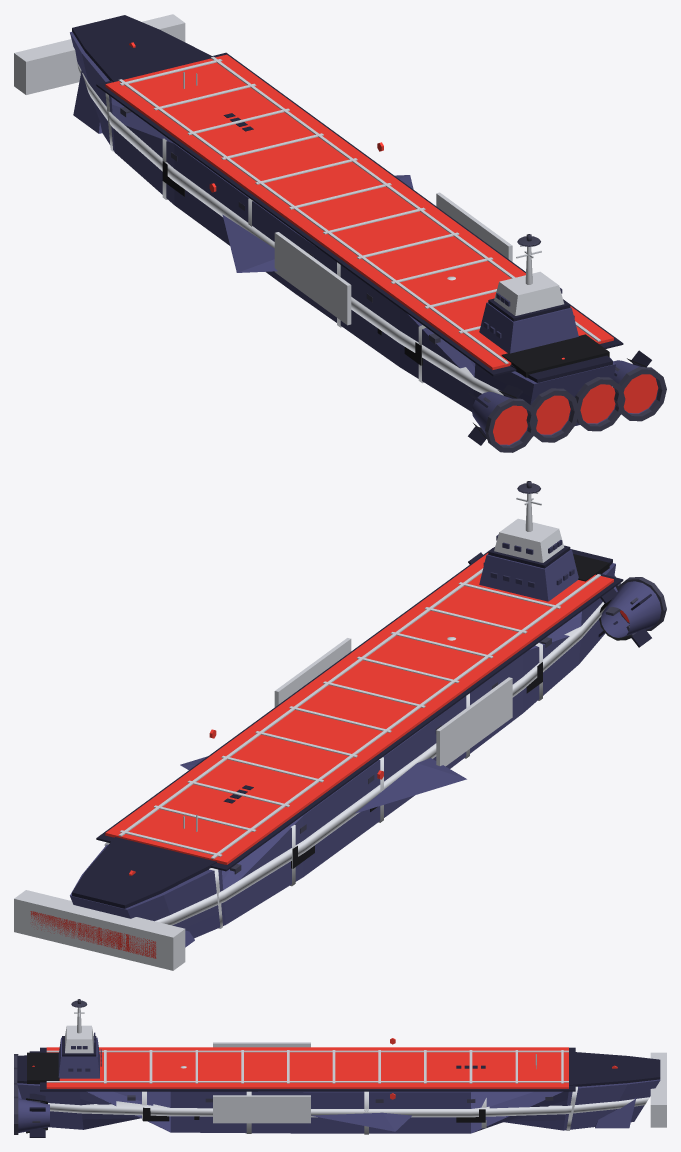
The model's file is bolar_carrier.obj.
The picture shows the model from 3 angles, top to bottom: view 1: azimuth 30°, elevation 25°; view 2: azimuth 150°, elevation 25°; view 3: azimuth 270°, elevation 25°; orthographic projection. The views are drawn at different scales.
Parts seen in each view (by area): view 1: hull, engine_nozzle, radiator, superstructure, wave_motion_gun, bridge, wing; view 2: hull, wave_motion_gun, radiator, superstructure, engine_nozzle, bridge, wing; view 3: hull, radiator, engine_nozzle, superstructure, bridge, wing, wave_motion_gun.
Part boxes in pixels (x1,y1,x2,y2): hull: (70, 15, 623, 436); engine_nozzle: (468, 350, 666, 452); radiator: (274, 192, 512, 325); superstructure: (120, 72, 578, 353); wave_motion_gun: (14, 14, 185, 94); bridge: (447, 234, 570, 321); wing: (222, 175, 413, 272); hull: (70, 547, 623, 947); wave_motion_gun: (14, 890, 185, 970); radiator: (274, 638, 512, 766); superstructure: (183, 549, 578, 874); engine_nozzle: (468, 552, 666, 647); bridge: (447, 481, 570, 640); wing: (180, 756, 466, 813); hull: (17, 1038, 660, 1134); radiator: (213, 1042, 310, 1123); engine_nozzle: (14, 1051, 49, 1137); superstructure: (58, 1037, 553, 1102); bridge: (62, 999, 186, 1068); wing: (311, 1112, 411, 1131); wave_motion_gun: (650, 1052, 666, 1127).
Bounding box in the file's own units: 110 × 77.06 × 400.
